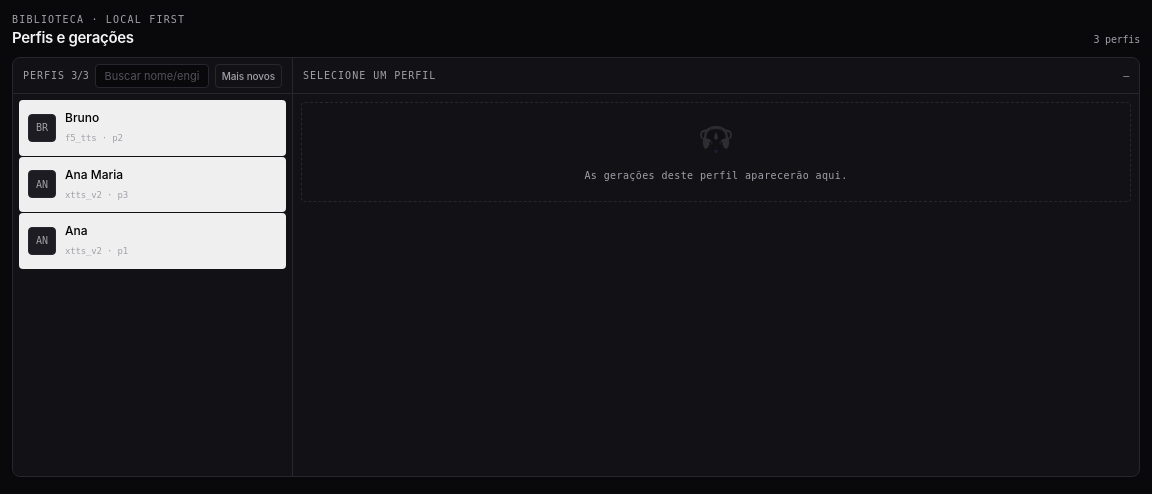
Test case: ProjetosTab search/ordenação › busca filtra por nome (case-insensitive)
Type "bruno" into the field with placeholder "Buscar nome/engine".
click(152, 76); type("bruno")  # box [95,64,209,88]
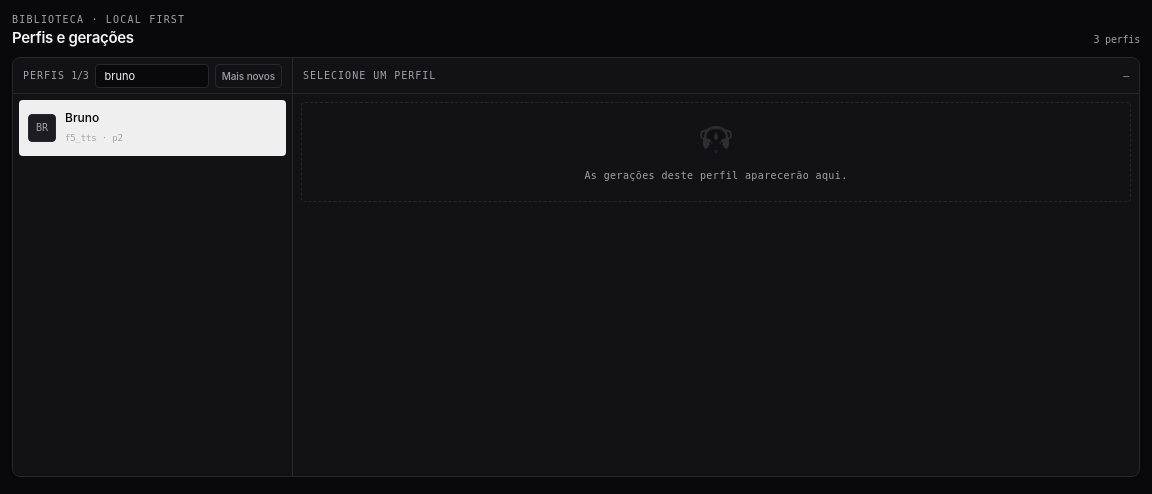
Expected: the text "Bruno" is shown, [65,110,99,125]
Expected: the button "Ana" is gone
